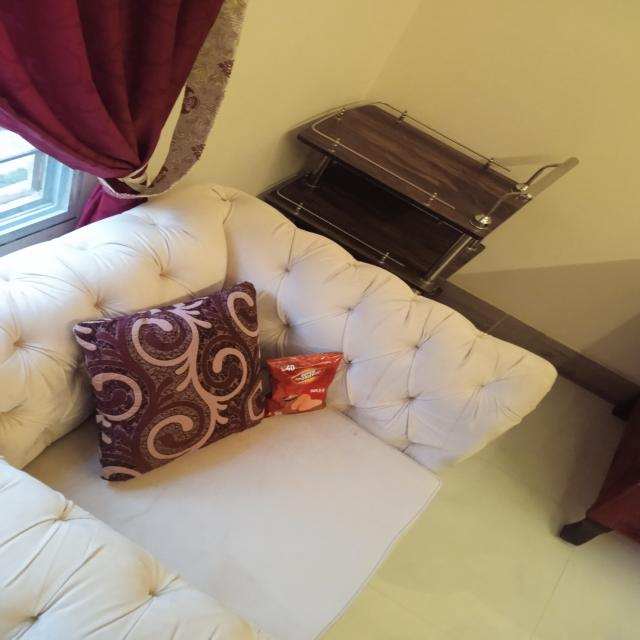Plastic: (274, 354, 336, 409)
